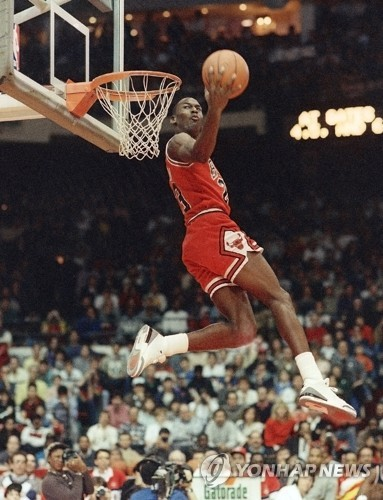ball: (198, 43, 257, 109)
basket: (82, 60, 184, 165)
dunk: (155, 38, 357, 435)
